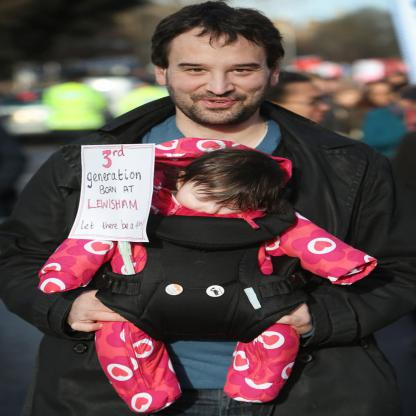face: (168, 39, 275, 125), (179, 182, 252, 224), (280, 83, 329, 131)
